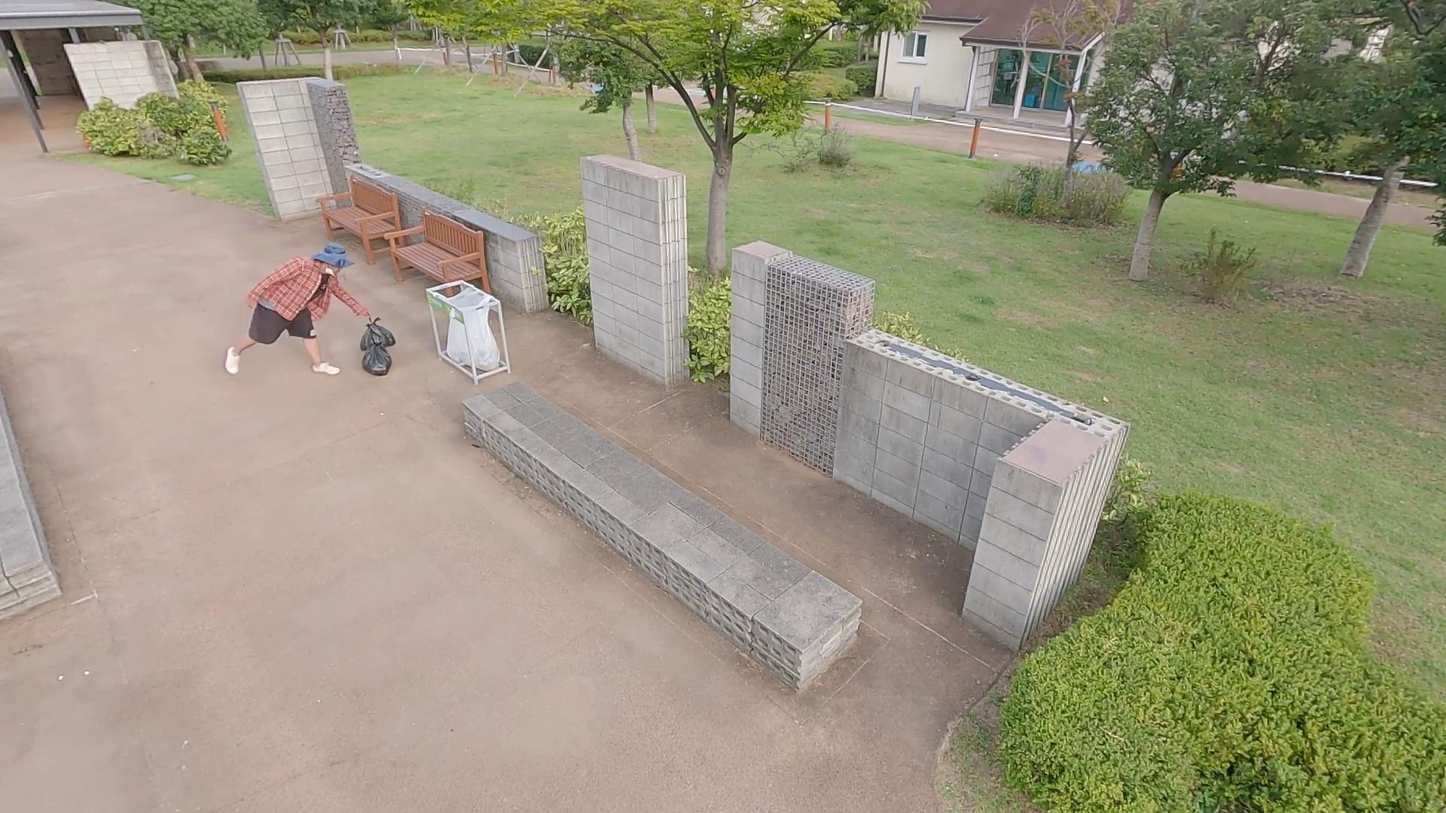person: (223, 242, 377, 383)
trash: (355, 332, 399, 382), (350, 311, 400, 352)
